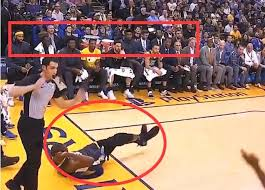10+: (1, 1, 265, 190)
down: (47, 123, 164, 180)
